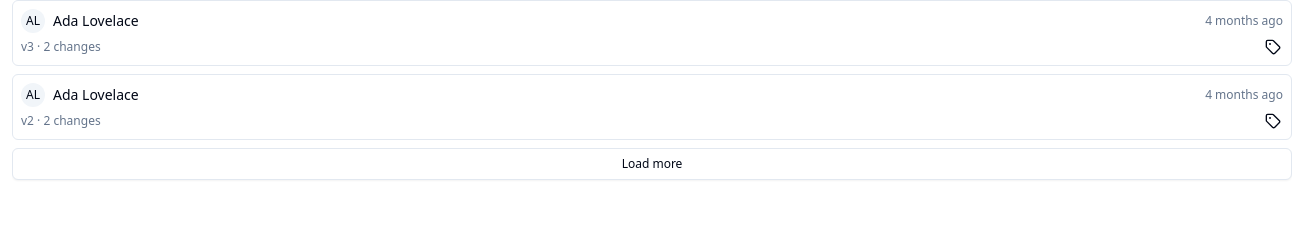
Test: HistoryTimeline › paginates with Load more and hides it at the end (AC2)
This screenshot has width=1304, height=231.
Click the button "Load more".
click(652, 164)  # box 12,148 -> 1292,180
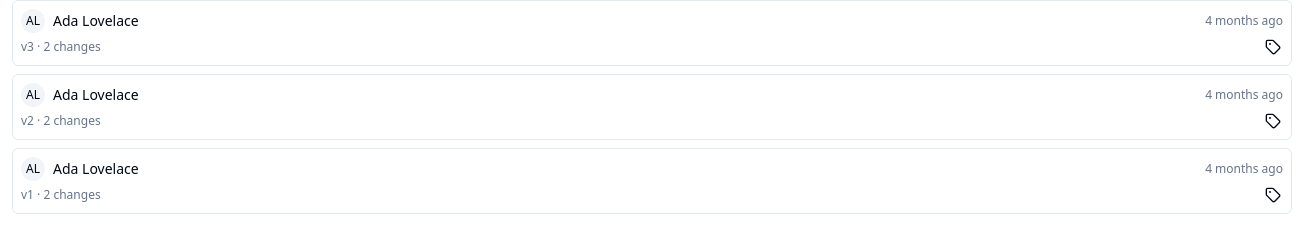
Expected: the text "v1 · 2 changes" is shown, 21,187 -> 101,203
Expected: the button "Load more" is gone
